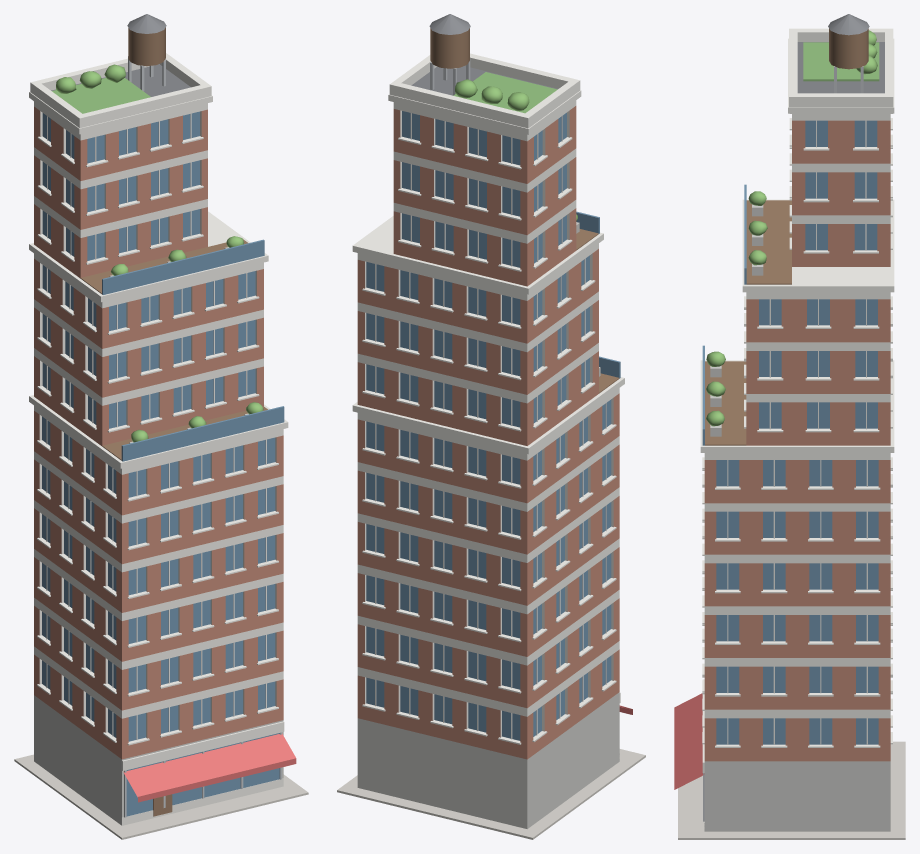
3 views of the same model, side by side, from view 1: azimuth 30°, elevation 25°; view 2: azimuth 150°, elevation 25°; view 3: azimuth 270°, elevation 25° (orthographic). The views are drawn at different scales.
Visible parts, largest first — view 1: r_3_1_d; view 2: r_3_1_d; view 3: r_3_1_d.
Boxes of the visible parts, x1,y1,x2,y2 form: r_3_1_d: (14,14,308,839); r_3_1_d: (337,14,645,839); r_3_1_d: (674,14,905,839).
Bounding box in the file's own units: 12 × 45.55 × 12.2.
